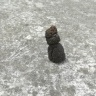Dog: (44, 24, 66, 63)
